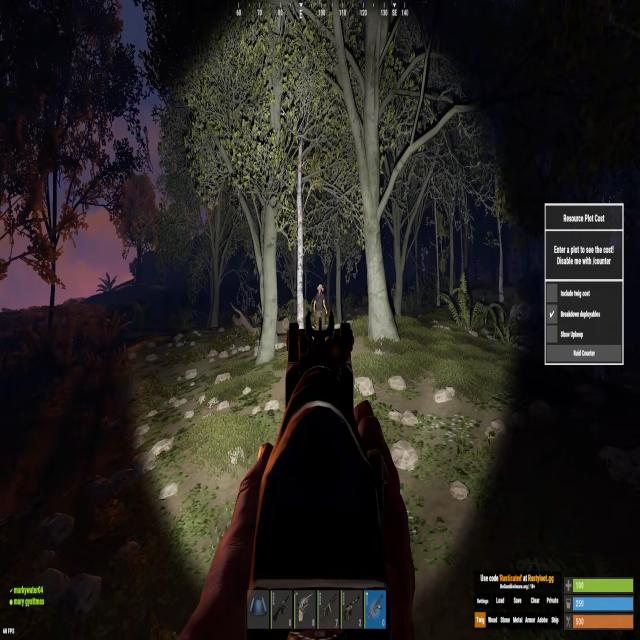Player: (314, 284, 327, 328)
